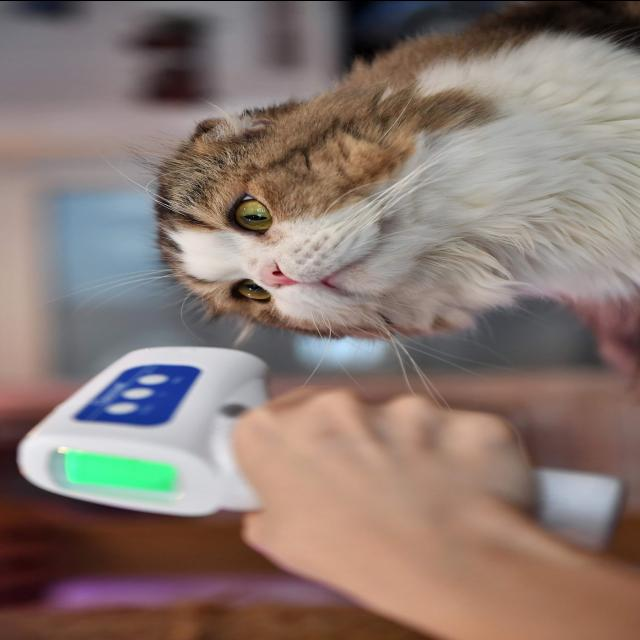cat: (118, 14, 640, 344)
